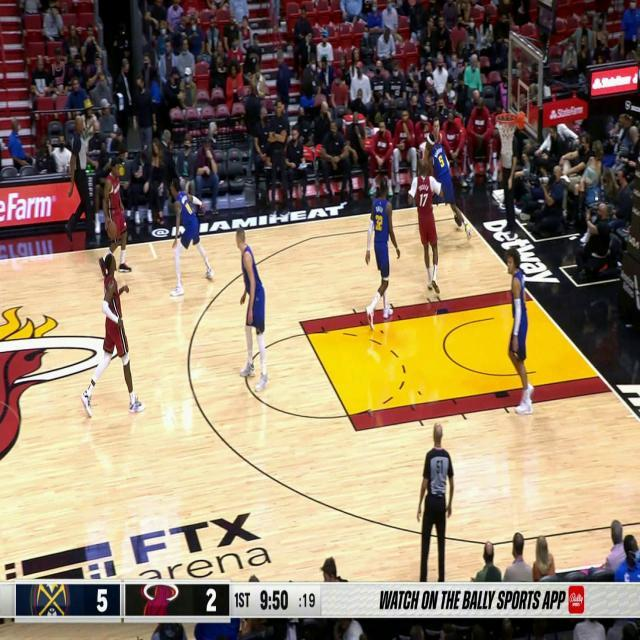rim: (106, 220, 118, 238)
